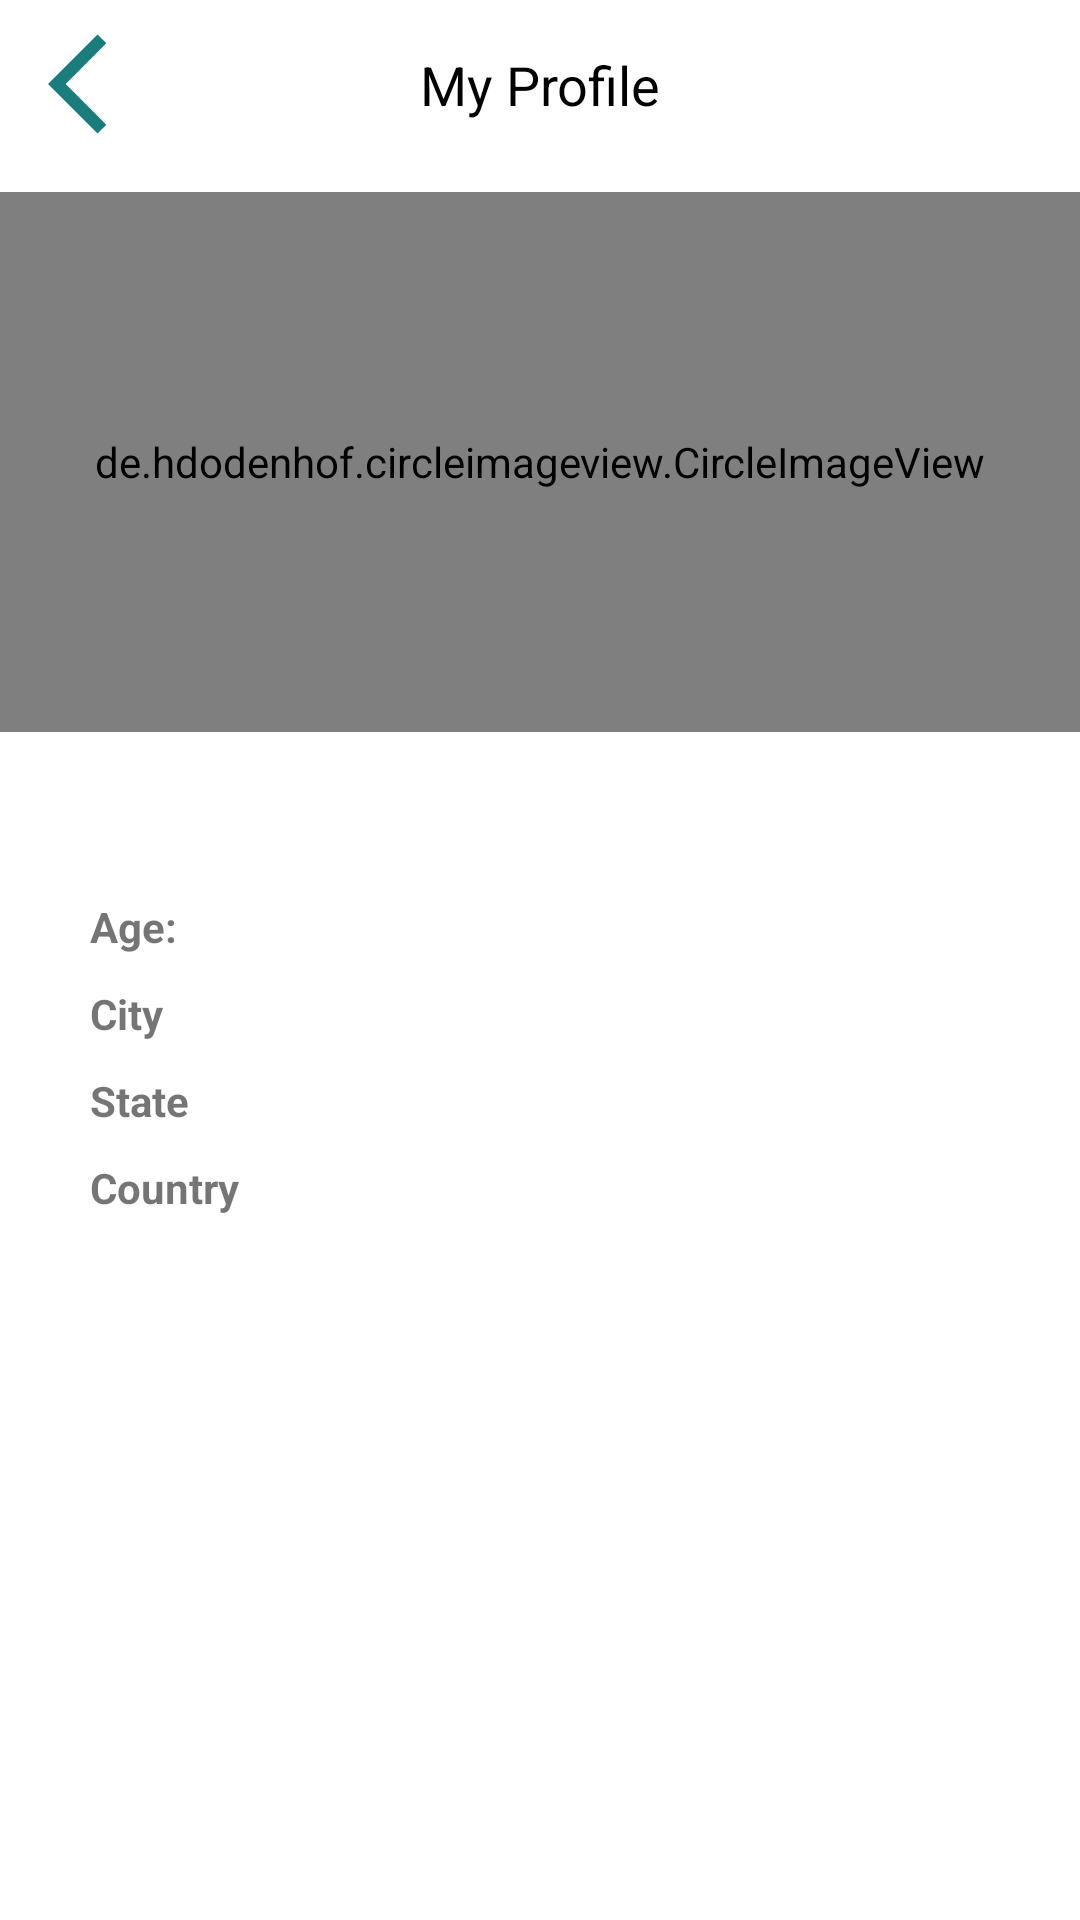

Screen size 1080 × 1920. Icon name, then its center in pixels as (x,y):
arrow back: (77,84)
